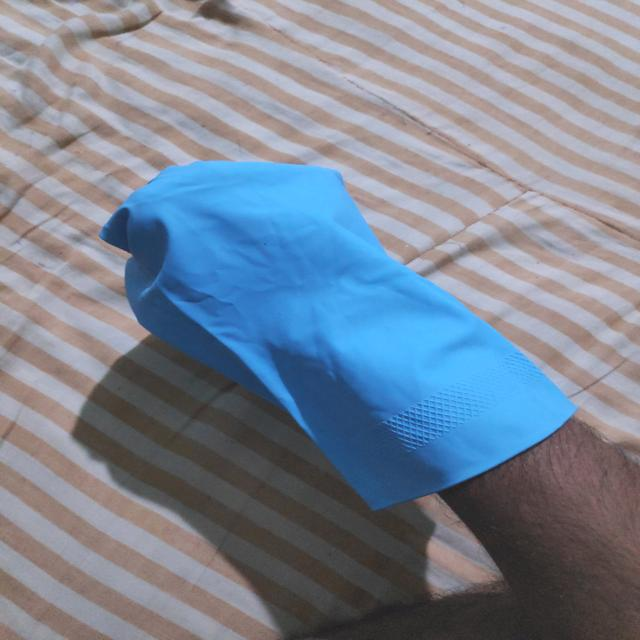glove: (93, 143, 577, 514)
